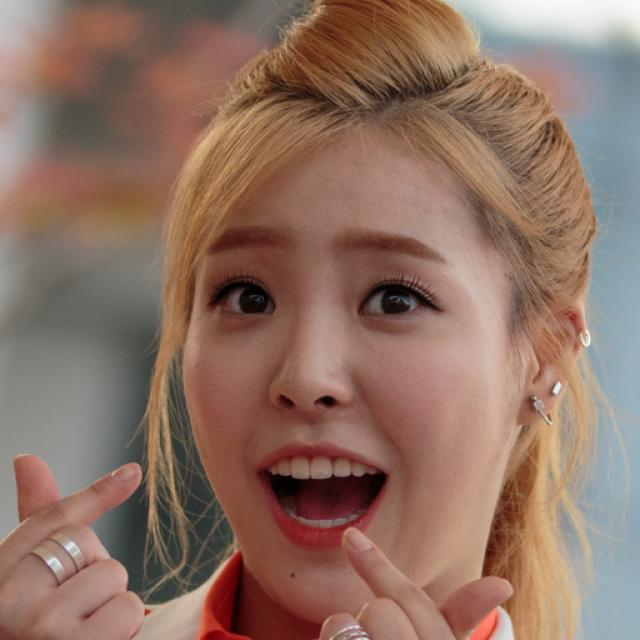surprise: (181, 100, 519, 616)
